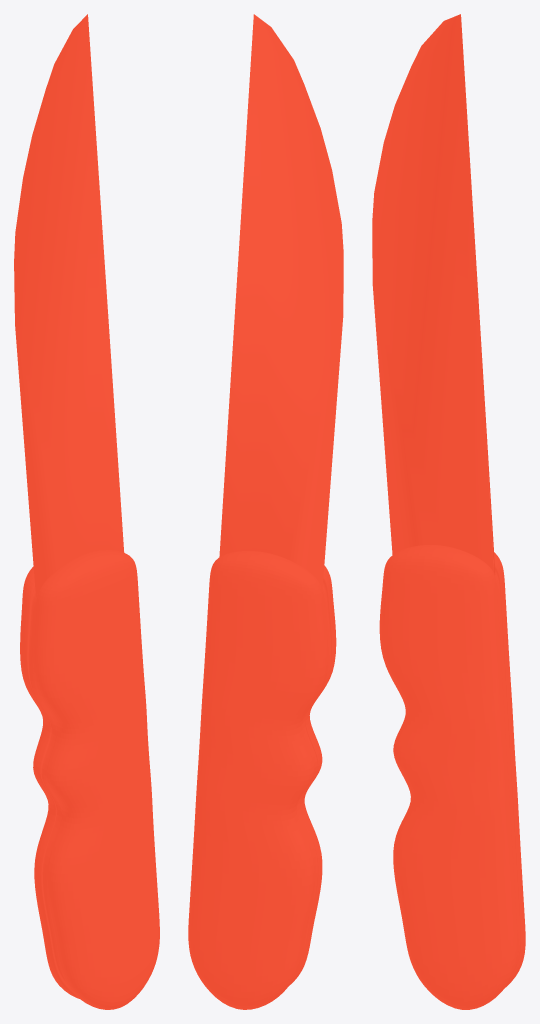
Rendered from reescaladoglb3.glb.
The picture shows the model from 3 angles, left to right: view 1: azimuth 30°, elevation 25°; view 2: azimuth 150°, elevation 25°; view 3: azimuth 330°, elevation 25°; orthographic projection.
Parts seen in each view (by area): view 1: Cube.002; view 2: Cube.002; view 3: Cube.002.
Part boxes in pixels (<box>): Cube.002: <box>14,14,159,1009</box>; Cube.002: <box>188,14,343,1009</box>; Cube.002: <box>372,14,525,1009</box>.
Bounding box in the file's own units: 0.1458 × 0.9569 × 0.0659.
